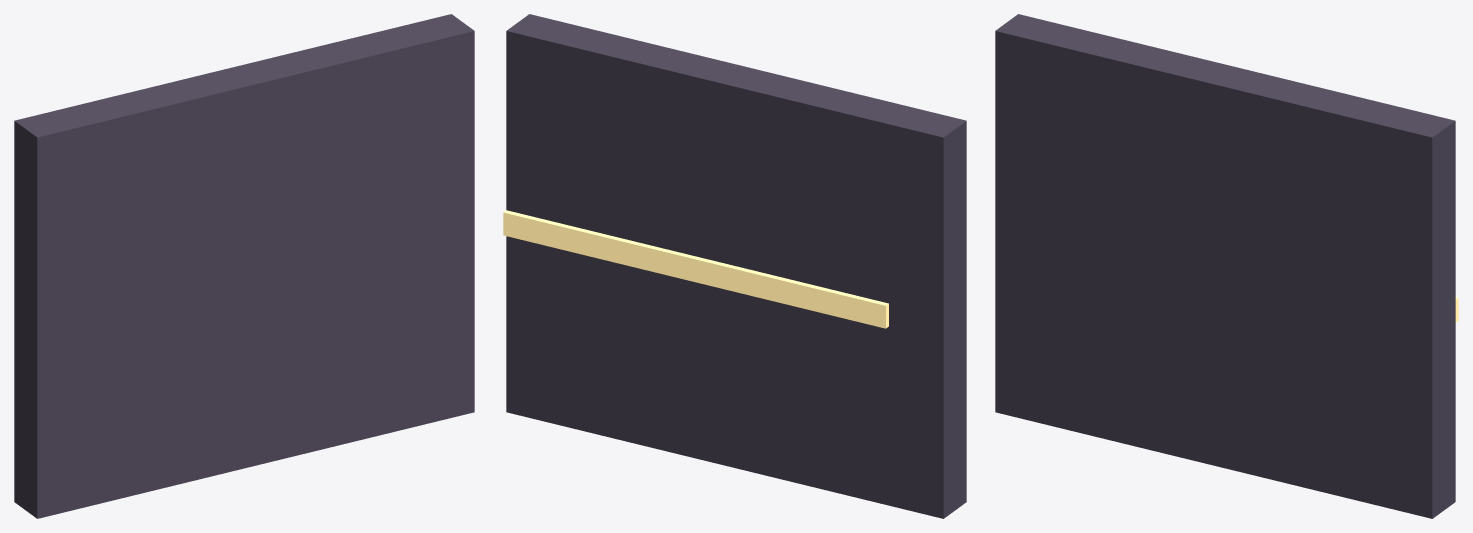
File: terrace_slab.glb
3 views of the same model, side by side, from view 1: azimuth 30°, elevation 25°; view 2: azimuth 150°, elevation 25°; view 3: azimuth 330°, elevation 25° (orthographic).
Parts seen in each view (by area): view 1: slab; view 2: slab, vein; view 3: slab.
Boxes of the visible parts, box(x1,y1,x2,y2) form: slab: box(14, 14, 474, 518); slab: box(506, 14, 966, 518); vein: box(503, 210, 888, 328); slab: box(995, 14, 1455, 518).
Size of the model in its own units: 2.4 by 2 by 0.25.
